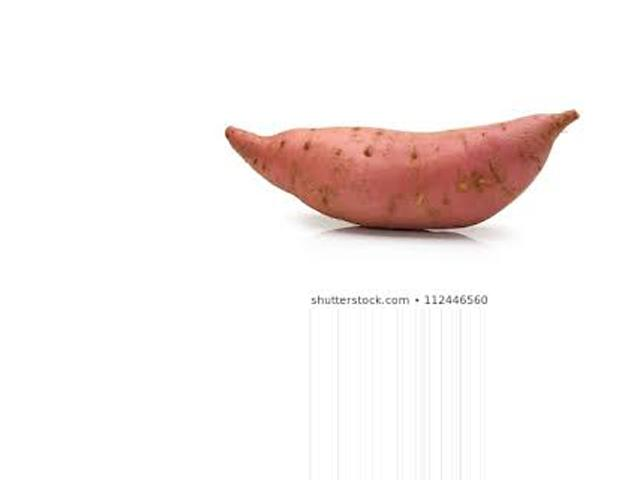sweet_potato: (220, 90, 580, 232)
